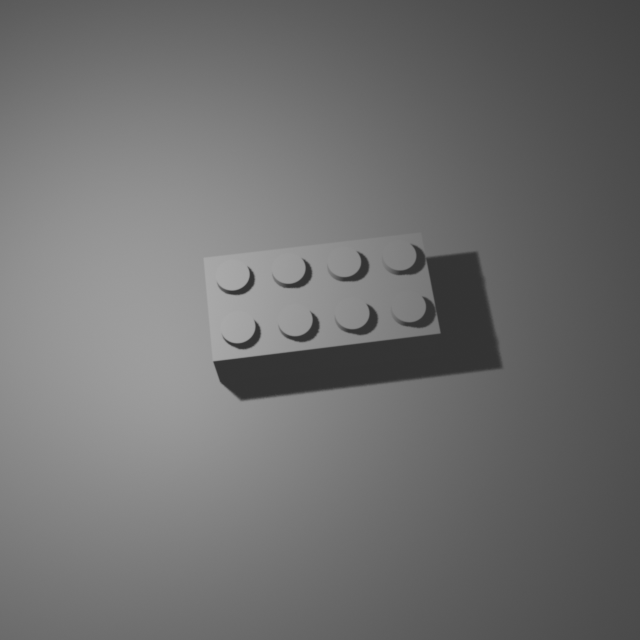lego_2x4: (202, 227, 442, 382)
